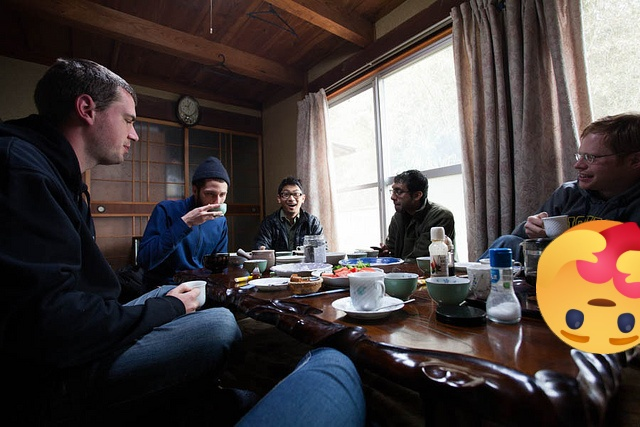care: (536, 220, 640, 354)
